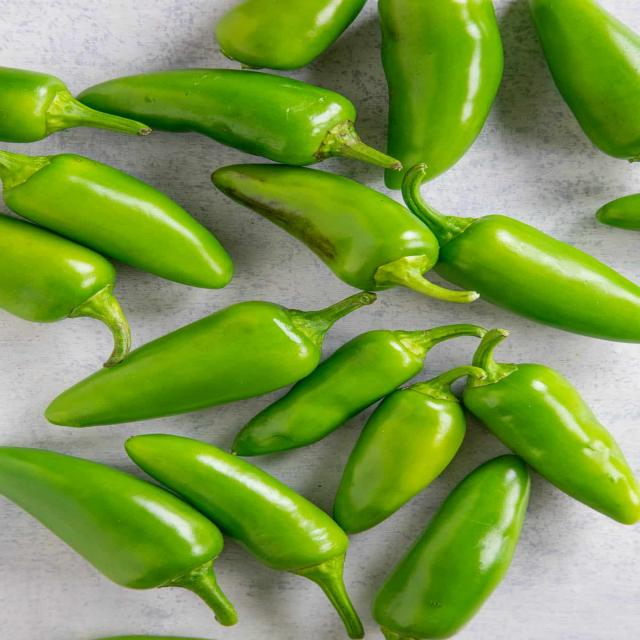aji: (2, 0, 640, 640), (35, 295, 429, 439), (3, 52, 413, 190)
